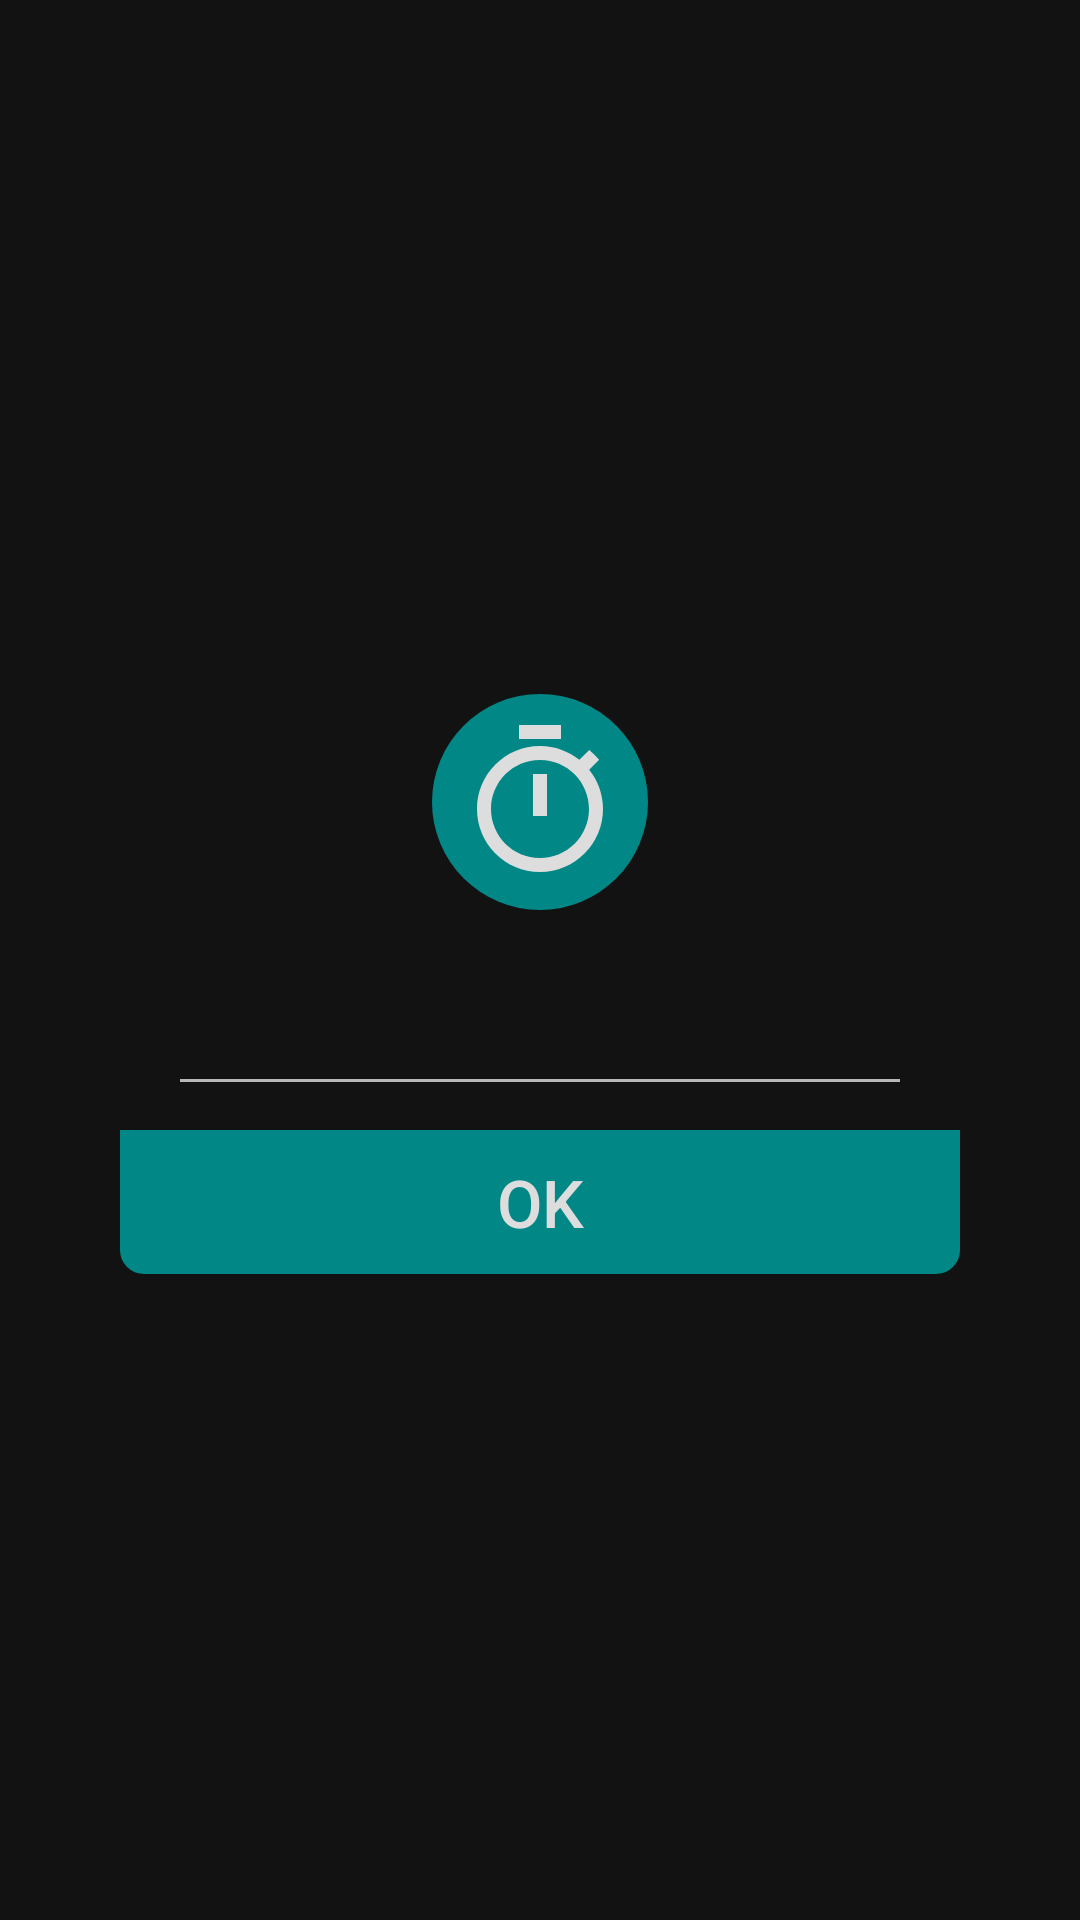

Icon click points for this 1080x1920 phone screenshot, format (x,y):
limit: (540,802)
